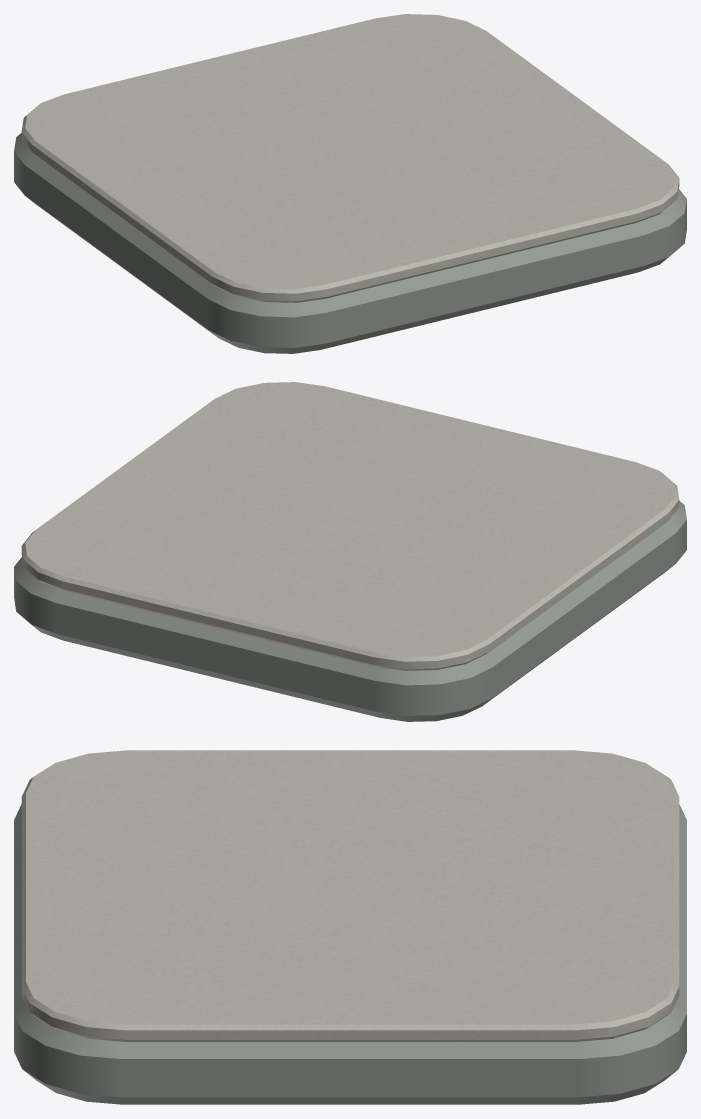
The model's file is tuile.glb.
The picture shows the model from 3 angles, top to bottom: view 1: azimuth 30°, elevation 25°; view 2: azimuth 150°, elevation 25°; view 3: azimuth 270°, elevation 25°; orthographic projection. The views are drawn at different scales.
Parts seen in each view (by area): view 1: Batch_CeramicSatin, Batch_CeramicBody; view 2: Batch_CeramicSatin, Batch_CeramicBody; view 3: Batch_CeramicSatin, Batch_CeramicBody.
Part boxes in pixels (x1,y1,x2,y2): Batch_CeramicSatin: (21, 14, 679, 302); Batch_CeramicBody: (14, 133, 686, 353); Batch_CeramicSatin: (21, 382, 679, 670); Batch_CeramicBody: (14, 501, 686, 721); Batch_CeramicSatin: (21, 750, 679, 1041); Batch_CeramicBody: (14, 804, 686, 1104).
Size of the model in its own units: 0.974 by 0.13 by 0.974.
2 materials, 1 textured.
